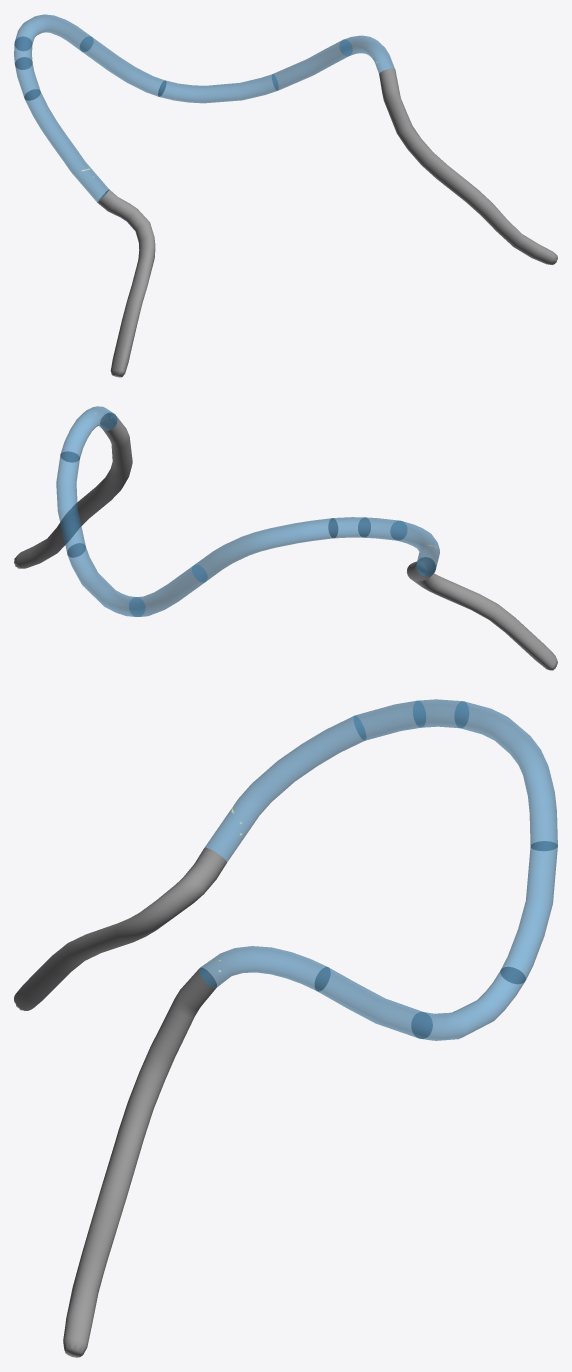
The model's file is DNA_new.glb.
The picture shows the model from 3 angles, top to bottom: view 1: azimuth 30°, elevation 25°; view 2: azimuth 150°, elevation 25°; view 3: azimuth 270°, elevation 25°; orthographic projection. The views are drawn at different scales.
Visible parts, largest first — view 1: ends, lacIPromoter, lacZ, lacOperator, lacPromoter, lacY, lacA, lacI, capSite; view 2: ends, lacPromoter, lacY, lacZ, lacOperator, lacA, lacIPromoter, lacI, capSite; view 3: ends, lacIPromoter, lacPromoter, lacOperator, lacA, lacZ, lacY, lacI, capSite.
Part boxes in pixels (left/top/right/bottom): ends: left=97, top=68, right=557, bottom=377; lacIPromoter: left=24, top=89, right=108, bottom=202; lacZ: left=158, top=74, right=278, bottom=103; lacOperator: left=80, top=36, right=166, bottom=96; lacPromoter: left=15, top=14, right=93, bottom=51; lacY: left=272, top=40, right=352, bottom=90; lacA: left=339, top=35, right=394, bottom=73; lacI: left=15, top=57, right=40, bottom=100; capSite: left=14, top=36, right=32, bottom=69; ends: left=14, top=413, right=557, bottom=670; lacPromoter: left=192, top=518, right=338, bottom=582; lacY: left=56, top=451, right=85, bottom=557; lacZ: left=67, top=543, right=145, bottom=616; lacOperator: left=129, top=565, right=207, bottom=616; lacA: left=60, top=406, right=117, bottom=462; lacIPromoter: left=390, top=521, right=439, bottom=576; lacI: left=358, top=517, right=407, bottom=540; capSite: left=328, top=517, right=370, bottom=538; ends: left=14, top=847, right=226, bottom=1357; lacIPromoter: left=205, top=715, right=365, bottom=862; lacPromoter: left=454, top=701, right=557, bottom=850; lacOperator: left=500, top=841, right=557, bottom=983; lacA: left=199, top=946, right=330, bottom=991; lacZ: left=411, top=966, right=525, bottom=1040; lacY: left=315, top=967, right=432, bottom=1038; lacI: left=353, top=700, right=425, bottom=740; capSite: left=413, top=699, right=468, bottom=728.
Bounding box in the file's own units: 2.8 × 1.37 × 1.88.
Materials: 2 (1 with a texture image).
